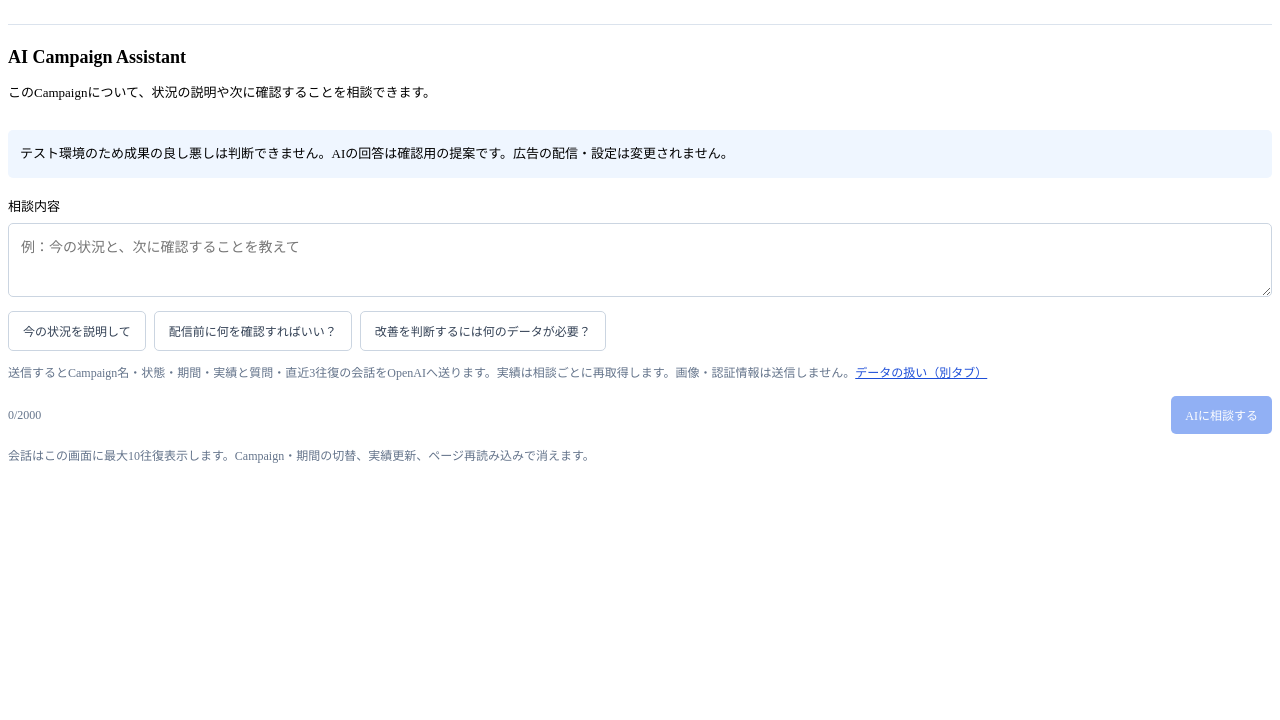
Test: CampaignAssistant › aborts a pending request when the selected context is unmounted
Step 1. Type "説明して" into the text box → (640, 260), box [8, 223, 1272, 297]
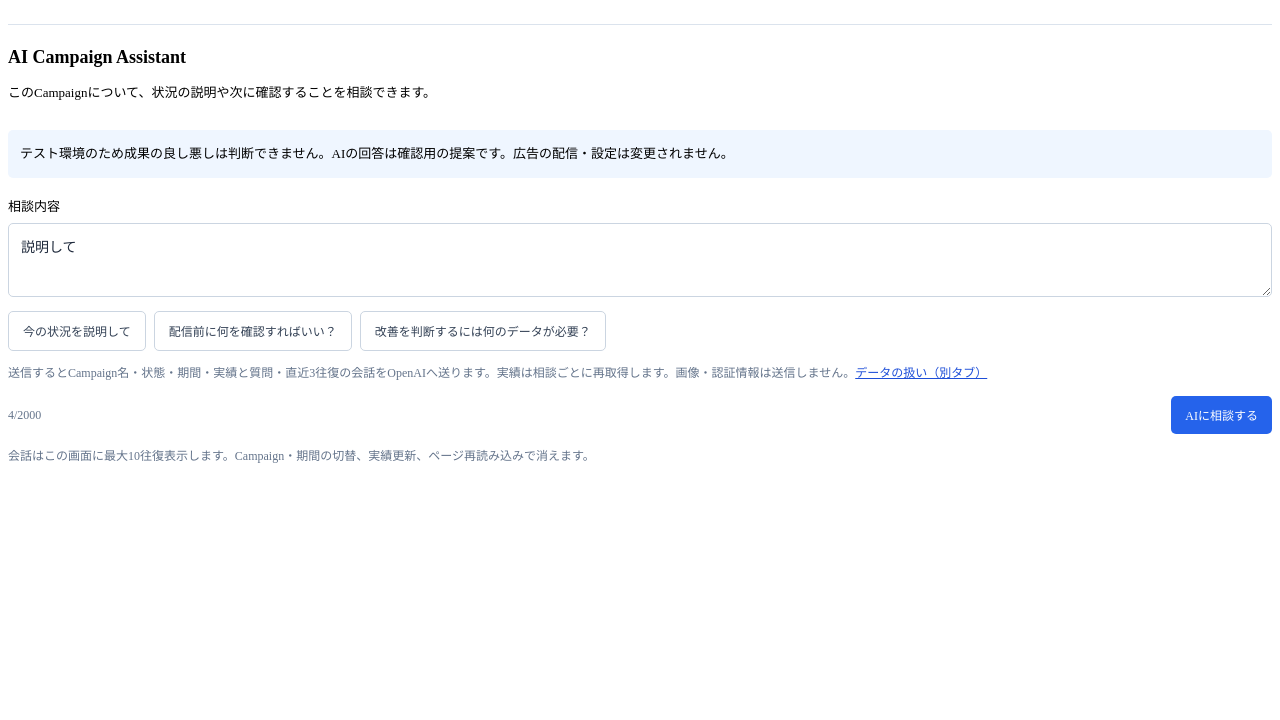
Step 2. Click the button "AIに相談する" → click(1222, 415), box [1171, 396, 1272, 434]
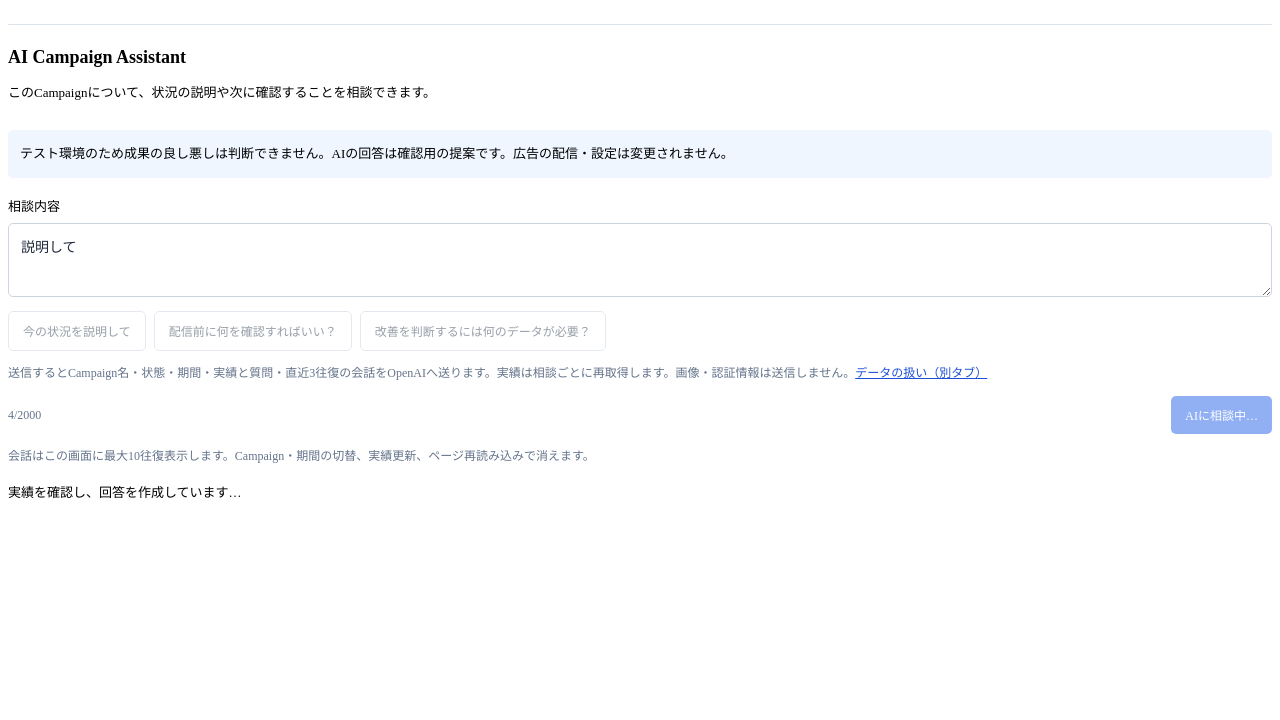
Check: the button "AIに相談中…" is disabled, box [1171, 396, 1272, 434]
